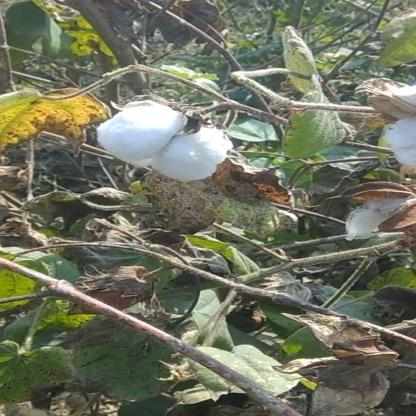cotton_ready: (68, 95, 250, 195)
